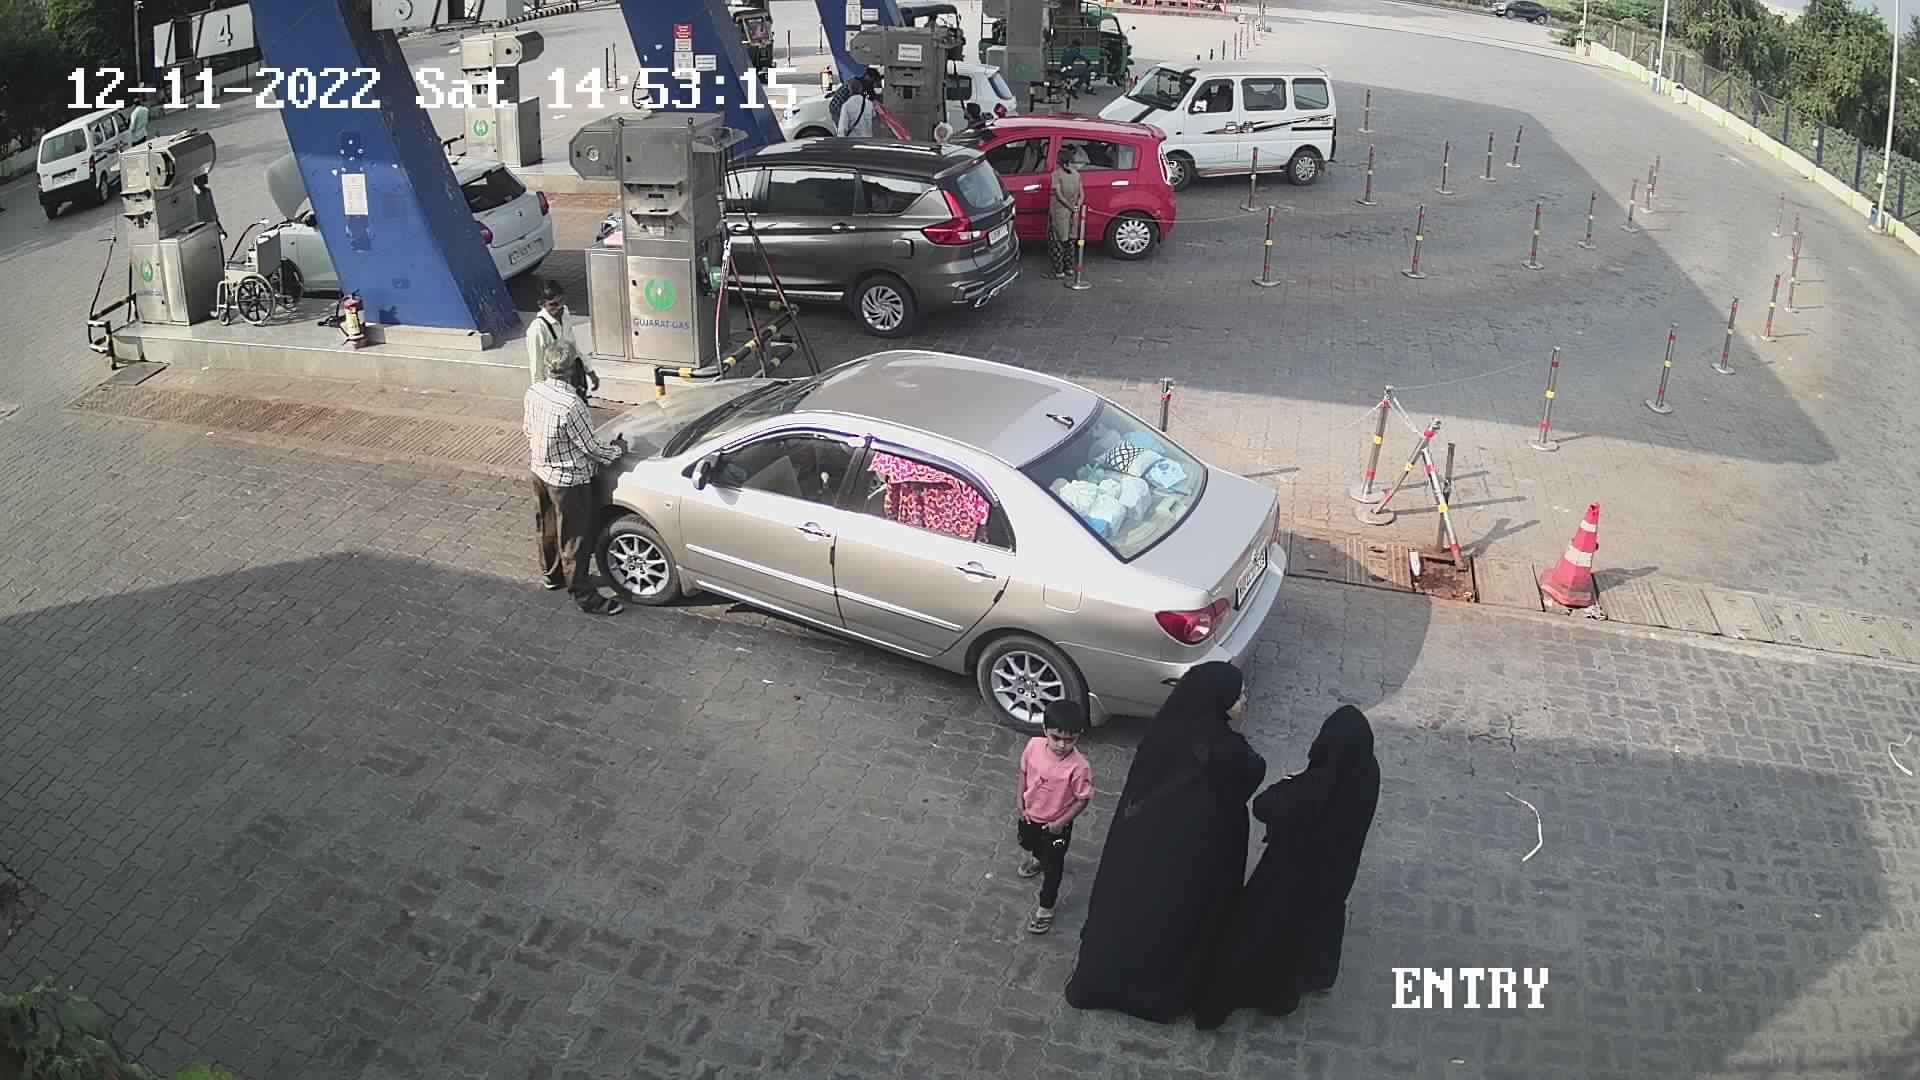Auto: (1038, 0, 1139, 94), (713, 0, 782, 86), (895, 0, 969, 65)
Car: (574, 347, 1292, 752), (713, 127, 1030, 344), (862, 86, 1179, 262), (1093, 44, 1346, 196), (436, 127, 558, 297), (24, 83, 152, 222), (936, 50, 1014, 152)
